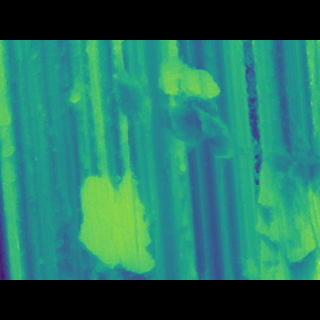Loch: (63, 68, 239, 162), (252, 121, 319, 239), (72, 161, 159, 250), (158, 68, 226, 118)
